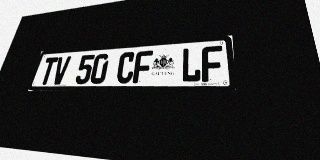0: (89, 53, 110, 84)
5: (74, 54, 95, 84)
C: (115, 52, 136, 84)
F: (202, 45, 224, 82), (132, 50, 153, 83)
L: (181, 47, 201, 82)
T: (38, 57, 59, 85)
V: (51, 56, 71, 85)
